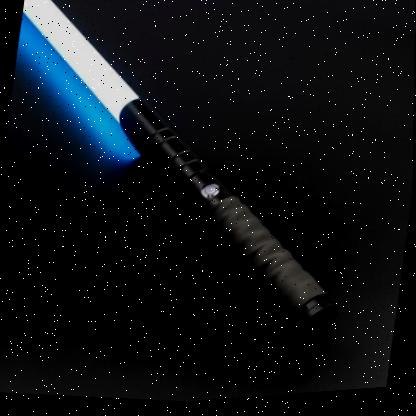lightsaber: (0, 0, 379, 369)
